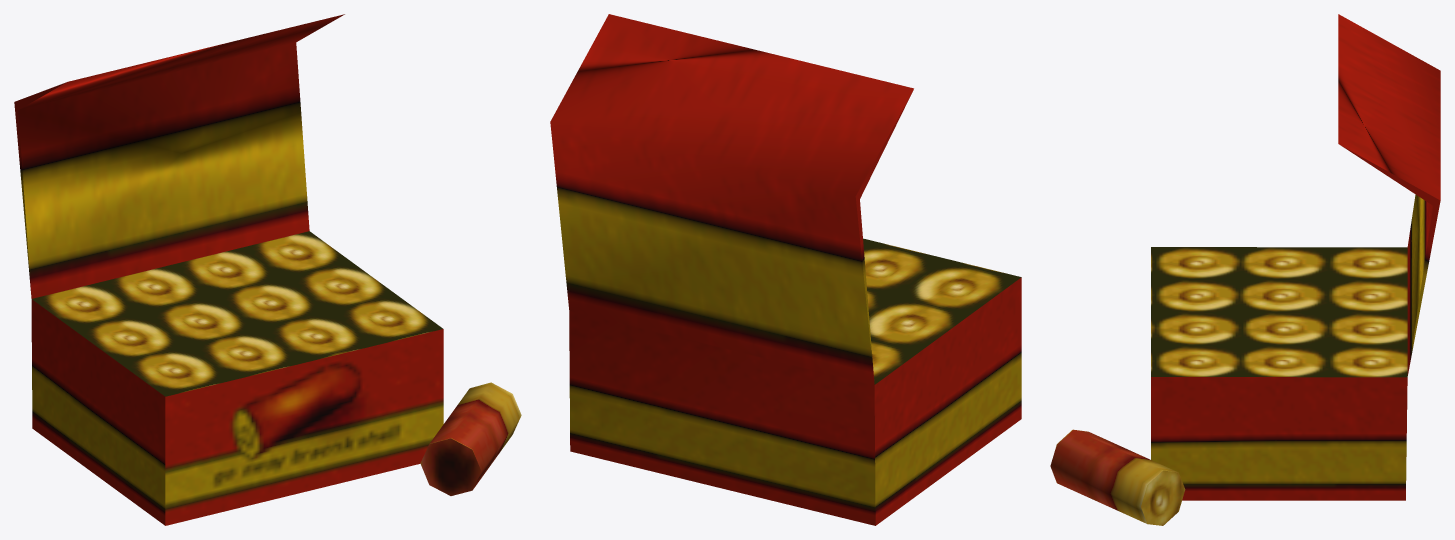
File: shotgun-ammo-lod0.glb
The picture shows the model from 3 angles, left to right: view 1: azimuth 30°, elevation 25°; view 2: azimuth 150°, elevation 25°; view 3: azimuth 270°, elevation 25°; orthographic projection. The views are drawn at different scales.
Visible parts, largest first — view 1: box; view 2: box; view 3: box.
Boxes of the visible parts, box(x1,y1,x2,y2) form: box: box(14, 14, 521, 525); box: box(550, 14, 1021, 525); box: box(1050, 14, 1440, 525).
Bounding box in the file's own units: 0.9066 × 0.9197 × 0.9116.
4 materials, 4 textured.
